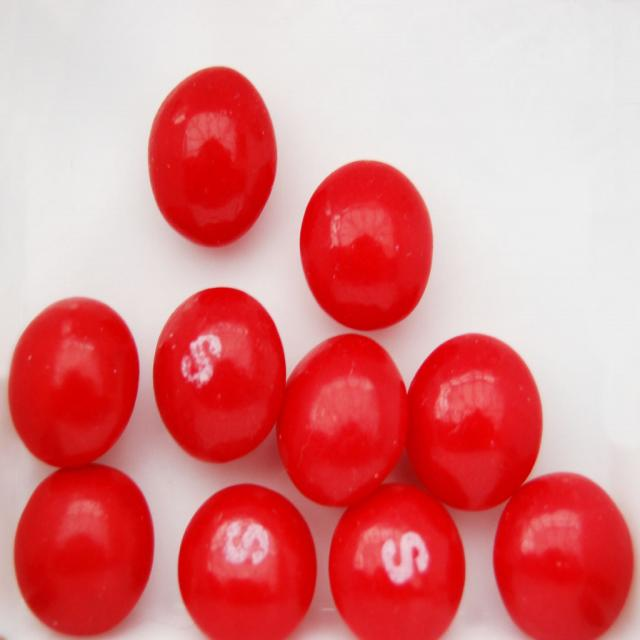smartie: (407, 334, 544, 512), (14, 465, 154, 637), (495, 474, 635, 640), (154, 288, 286, 463), (277, 334, 409, 507), (149, 67, 277, 245), (301, 160, 433, 330), (8, 298, 139, 468), (178, 485, 316, 638), (330, 485, 465, 640)
